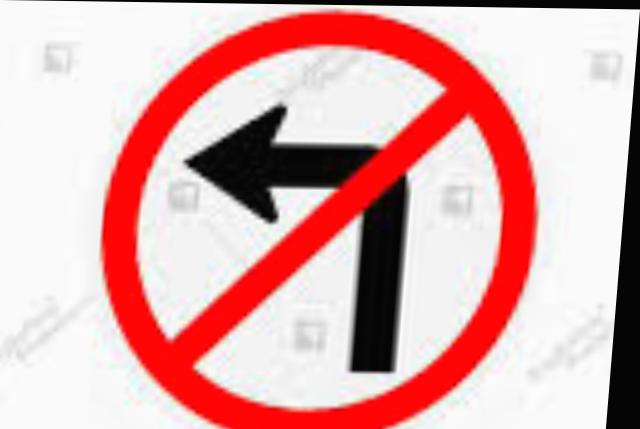not_turn_left: (80, 13, 559, 429)
